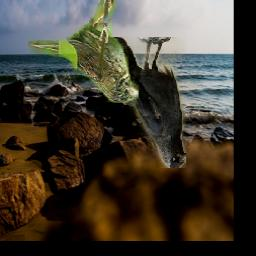Crow: (107, 38, 187, 169)
Sparrow: (29, 0, 140, 104)
